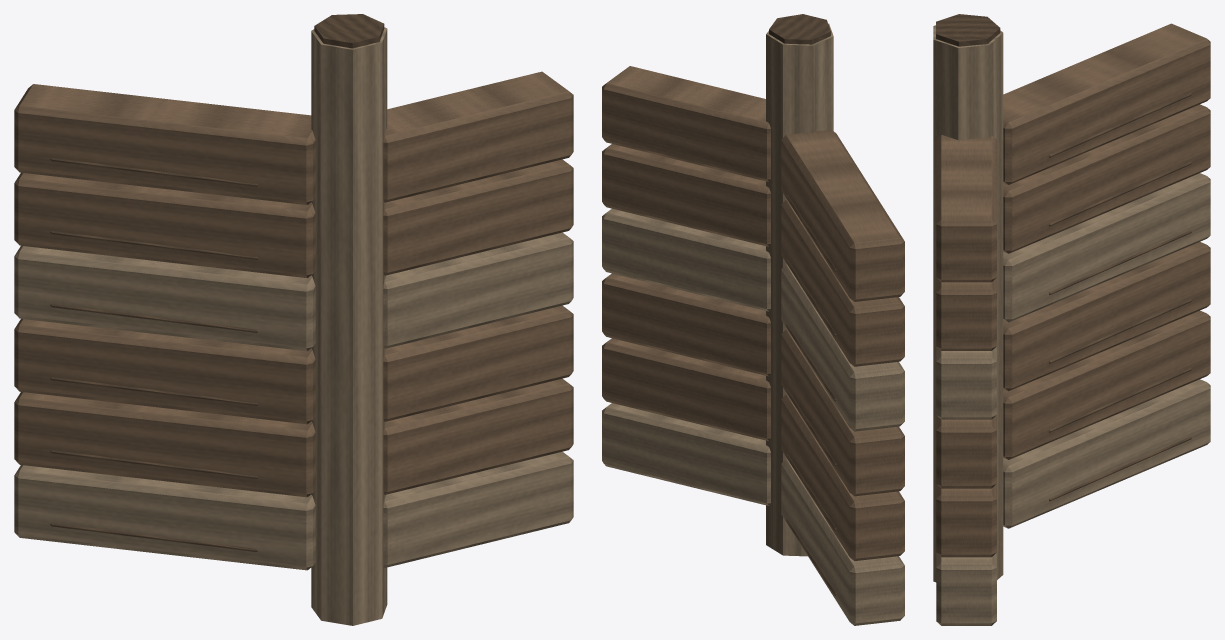
The model's file is wall_mask_36.glb.
3 views of the same model, side by side, from view 1: azimuth 30°, elevation 25°; view 2: azimuth 150°, elevation 25°; view 3: azimuth 270°, elevation 25° (orthographic). The views are drawn at different scales.
Visible parts, largest first — view 1: wall_mask_36__Weathered_timber, wall_mask_36__Timber_worn_edges, wall_mask_36__Dark_endgrain; view 2: wall_mask_36__Weathered_timber, wall_mask_36__Timber_worn_edges, wall_mask_36__Dark_endgrain; view 3: wall_mask_36__Weathered_timber, wall_mask_36__Timber_worn_edges, wall_mask_36__Dark_endgrain.
Boxes of the visible parts, x1,y1,x2,y2 form: wall_mask_36__Weathered_timber: [14, 71, 573, 497]; wall_mask_36__Timber_worn_edges: [14, 27, 573, 625]; wall_mask_36__Dark_endgrain: [50, 14, 384, 551]; wall_mask_36__Weathered_timber: [602, 66, 904, 561]; wall_mask_36__Timber_worn_edges: [602, 23, 904, 625]; wall_mask_36__Dark_endgrain: [769, 14, 836, 595]; wall_mask_36__Weathered_timber: [936, 23, 1210, 557]; wall_mask_36__Timber_worn_edges: [933, 25, 1210, 625]; wall_mask_36__Dark_endgrain: [936, 14, 1191, 501].
Bounding box in the file's own units: 1.09 × 1.39 × 0.64.
Materials: 3 (3 with a texture image).
